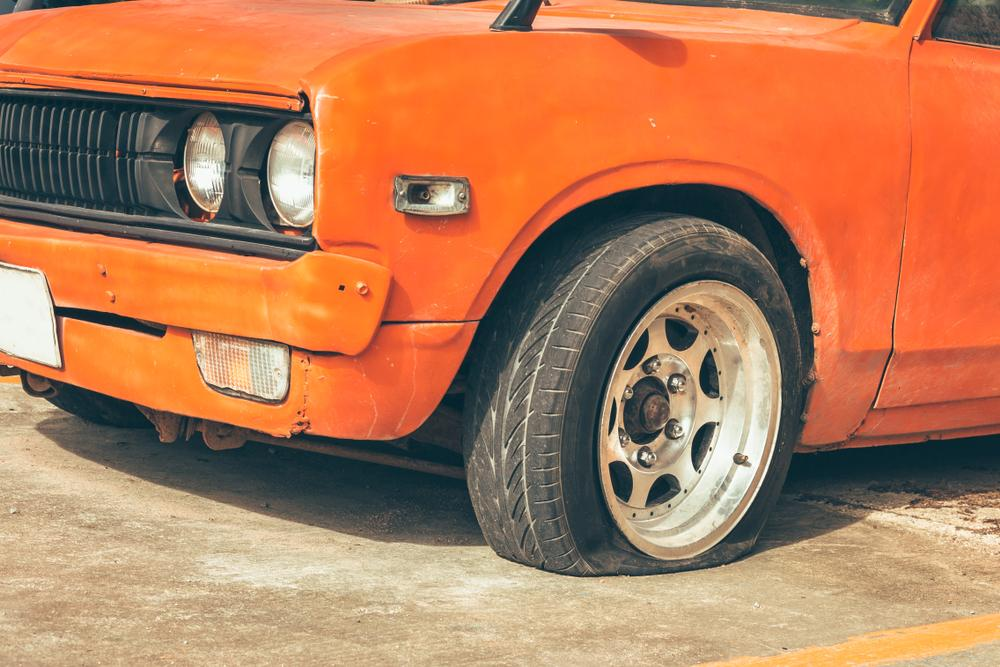tire flat: (461, 211, 805, 575)
